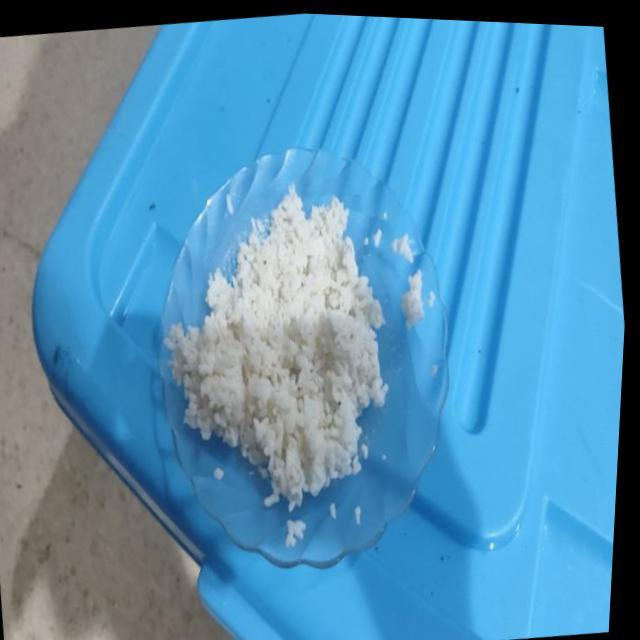nasi_putih: (166, 185, 388, 506)
